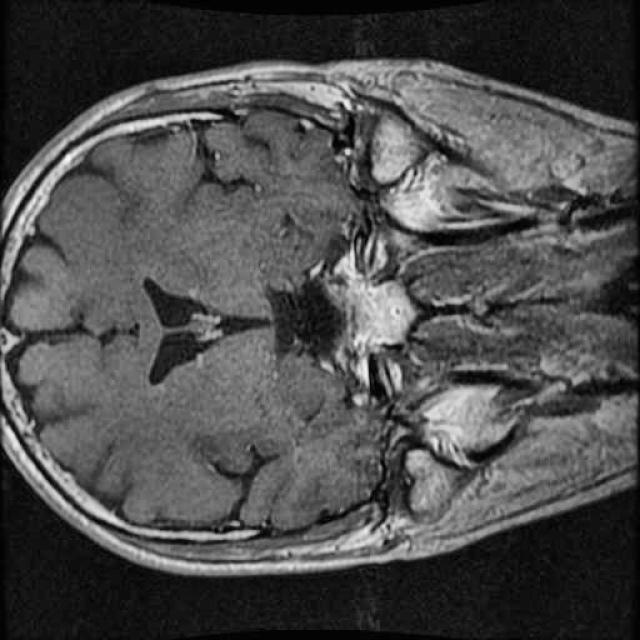Tumor: (322, 265, 422, 370)
